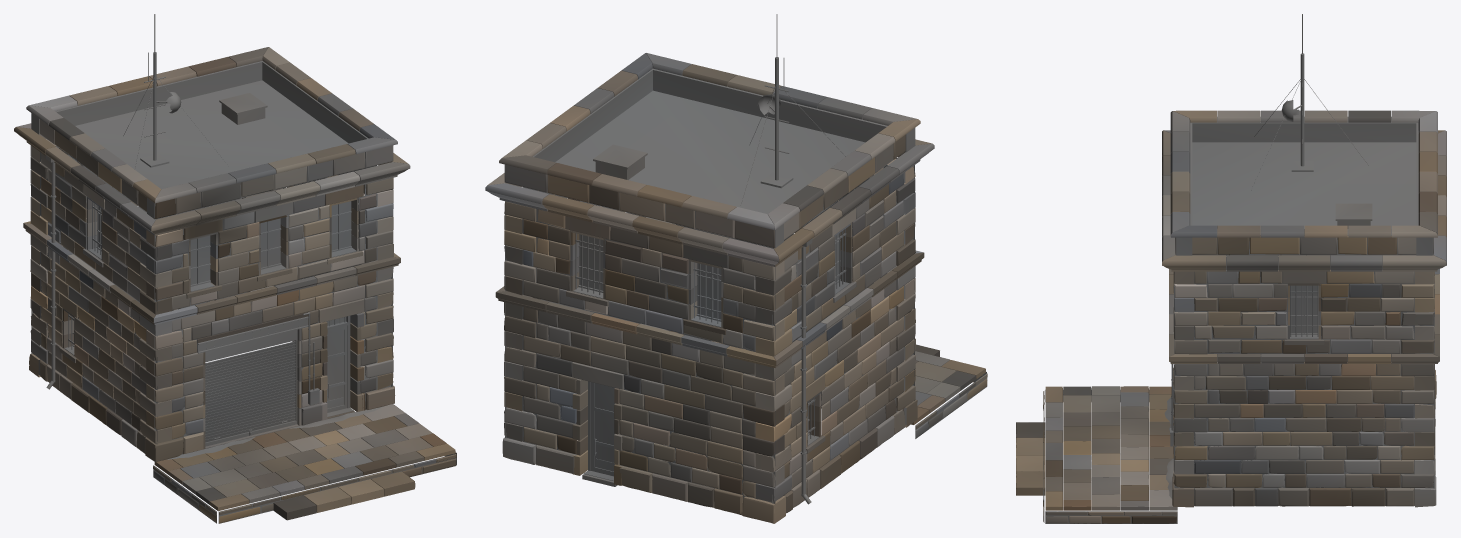
File: RelayWorks_LOD0.glb
3 renders of one model, left to right at view 1: azimuth 30°, elevation 25°; view 2: azimuth 150°, elevation 25°; view 3: azimuth 270°, elevation 25°, orthographic. The views are drawn at different scales.
Parts seen in each view (by area): view 1: RelayWorks_Masonry_LOD0, RelayWorks_Trim_LOD0, RelayWorks_Porch_LOD0, RelayWorks_Metal_LOD0, RelayWorks_Roof_LOD0, RelayWorks_Glass_LOD0, RelayWorks_Sand_LOD0; view 2: RelayWorks_Masonry_LOD0, RelayWorks_Trim_LOD0, RelayWorks_Roof_LOD0, RelayWorks_Metal_LOD0, RelayWorks_Porch_LOD0, RelayWorks_Glass_LOD0; view 3: RelayWorks_Masonry_LOD0, RelayWorks_Trim_LOD0, RelayWorks_Porch_LOD0, RelayWorks_Roof_LOD0, RelayWorks_Metal_LOD0, RelayWorks_Glass_LOD0, RelayWorks_Sand_LOD0.
Boxes of the visible parts, x1,y1,x2,y2 form: RelayWorks_Masonry_LOD0: (29,61,395,462); RelayWorks_Trim_LOD0: (14,47,410,448); RelayWorks_Porch_LOD0: (153,404,456,523); RelayWorks_Metal_LOD0: (45,14,353,446); RelayWorks_Roof_LOD0: (75,80,348,188); RelayWorks_Glass_LOD0: (74,168,351,342); RelayWorks_Sand_LOD0: (64,247,383,459); RelayWorks_Masonry_LOD0: (502,68,917,523); RelayWorks_Trim_LOD0: (485,53,934,485); RelayWorks_Roof_LOD0: (555,90,865,213); RelayWorks_Metal_LOD0: (575,14,869,504); RelayWorks_Porch_LOD0: (582,344,987,486); RelayWorks_Glass_LOD0: (579,179,867,430); RelayWorks_Masonry_LOD0: (1172,116,1436,507); RelayWorks_Trim_LOD0: (1162,110,1446,475); RelayWorks_Porch_LOD0: (1016,386,1177,523); RelayWorks_Roof_LOD0: (1192,142,1416,228); RelayWorks_Metal_LOD0: (1170,14,1368,446); RelayWorks_Glass_LOD0: (1290,285,1317,332); RelayWorks_Sand_LOD0: (1164,334,1318,498).
Size of the model in its own units: 8.46 by 12.6 by 11.73.
